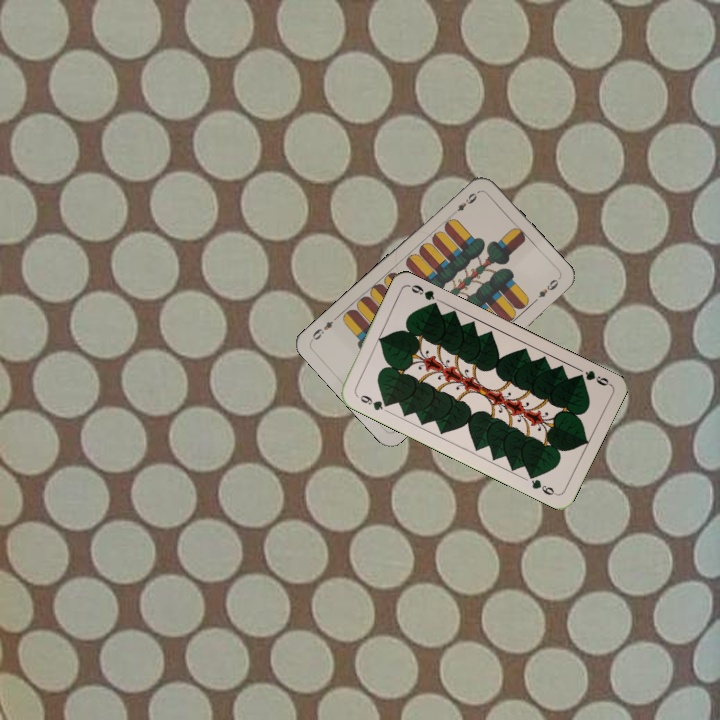E9: (448, 189, 480, 218)
G9: (352, 390, 392, 413), (572, 366, 613, 388)
